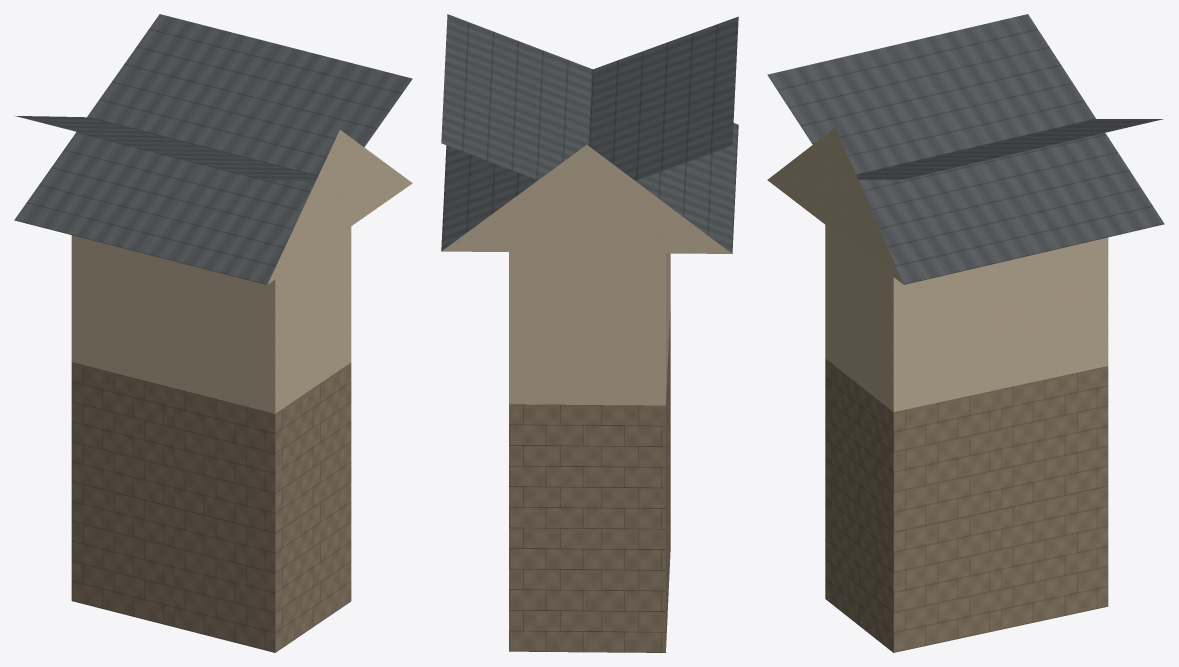
The model's file is bld_c8_38_501.gltf.
3 renders of one model, left to right at view 1: azimuth 30°, elevation 25°; view 2: azimuth 150°, elevation 25°; view 3: azimuth 270°, elevation 25°, orthographic. The views are drawn at different scales.
Visible parts, largest first — view 1: bld_c8_38_501; view 2: bld_c8_38_501; view 3: bld_c8_38_501.
Boxes of the visible parts, left/top/right/bottom form: bld_c8_38_501: left=14, top=14, right=412, bottom=652; bld_c8_38_501: left=441, top=14, right=738, bottom=652; bld_c8_38_501: left=767, top=14, right=1164, bottom=652.
Size of the model in its own units: 6.91 by 9.85 by 7.01.
Materials: 4 (4 with a texture image).
